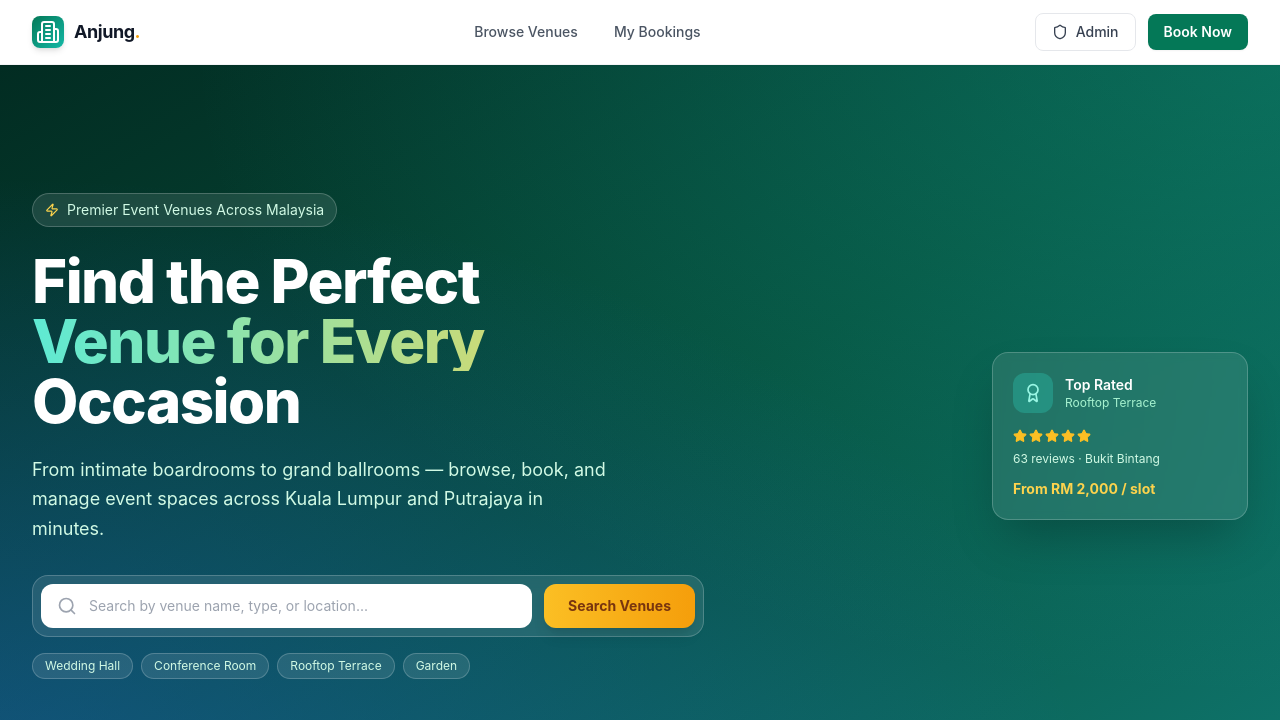
Test: App — admin authentication › shows admin login page when clicking Admin link
This screenshot has width=1280, height=720.
What coordinates should you click on to do the following:
click the button "Admin"
I would click on:
 (1085, 32)
Its box is left=1035, top=13, right=1136, bottom=51.
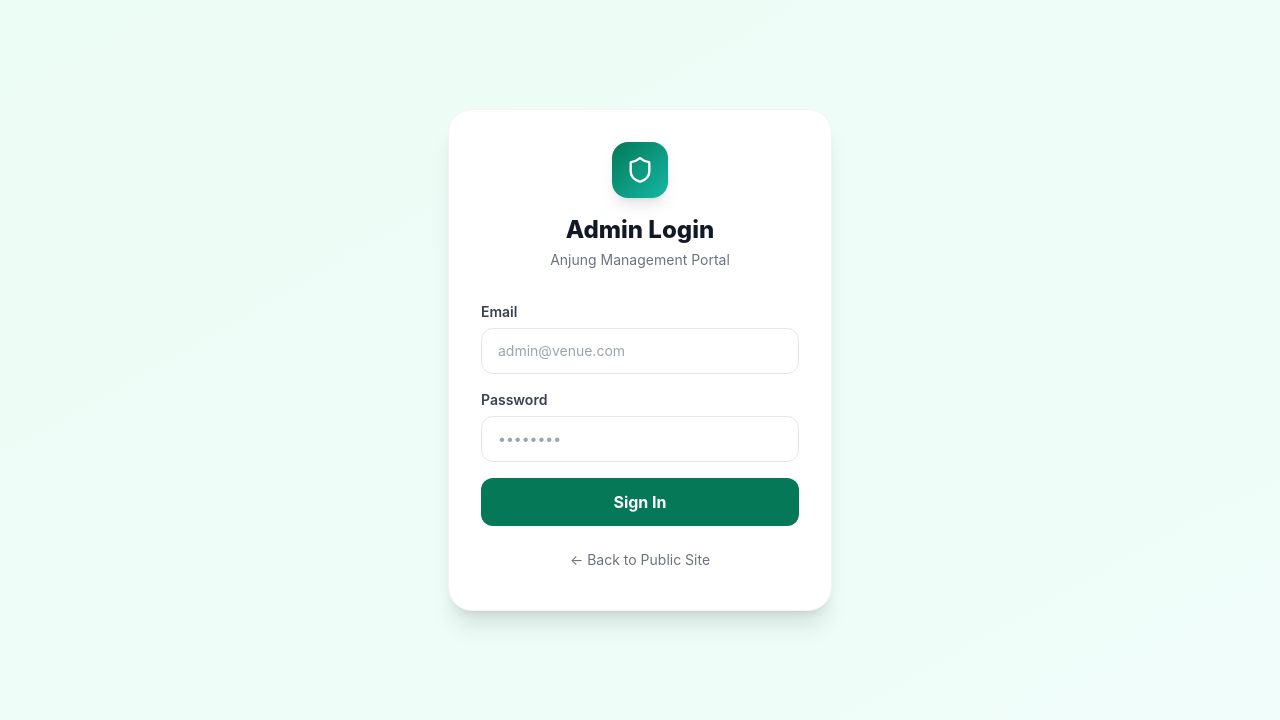
expect the field with placeholder "admin@venue.com" is shown: met, box left=481, top=328, right=799, bottom=374
